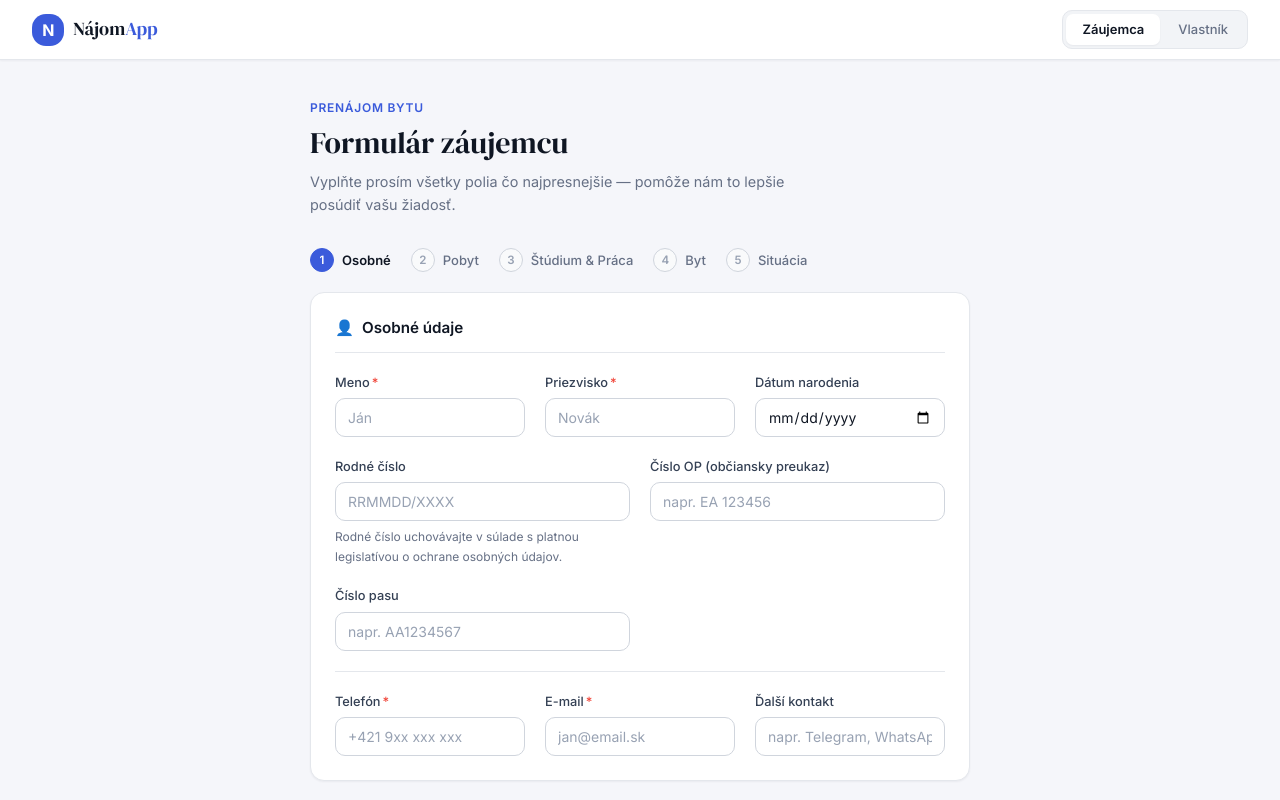
Test case: App shell (Sprint 1.1) › reveals the owner panel when the Vlastník tab is clicked
Click the tab "Vlastník": click(1203, 30) [1162,14,1244,45]
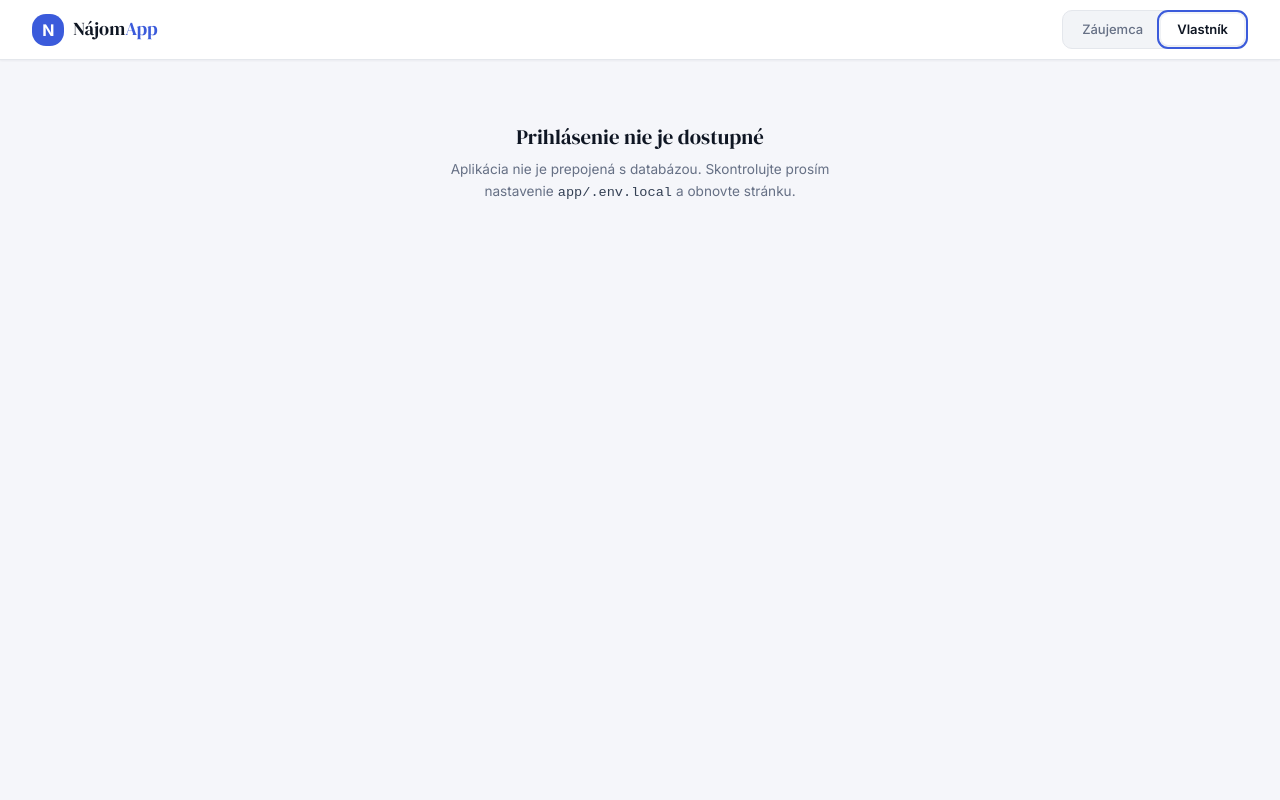
expect the panel named "Vlastník" is shown: met, box [451,122,829,200]
